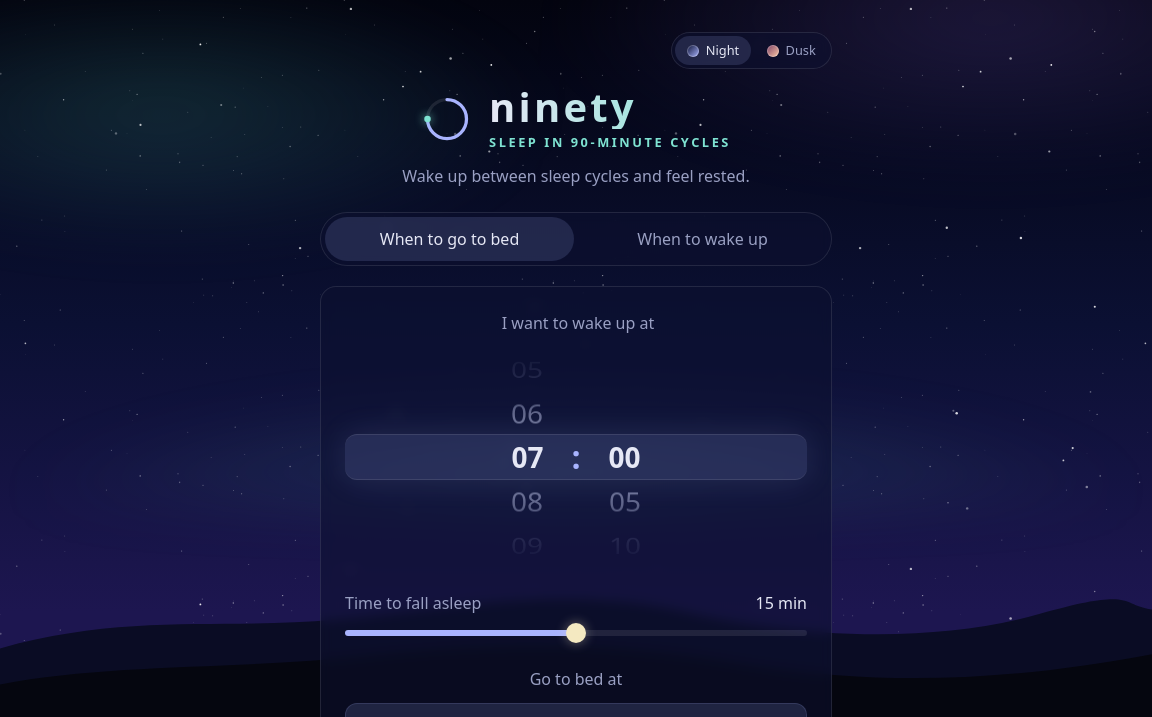
App › shifts bedtimes when the fall-asleep time changes
(page scrolled)
Set the slider labelled "Time to fall asleep 15 min" to "30": {"x": 799, "y": 632} [345,622,807,642]
(page scrolled)
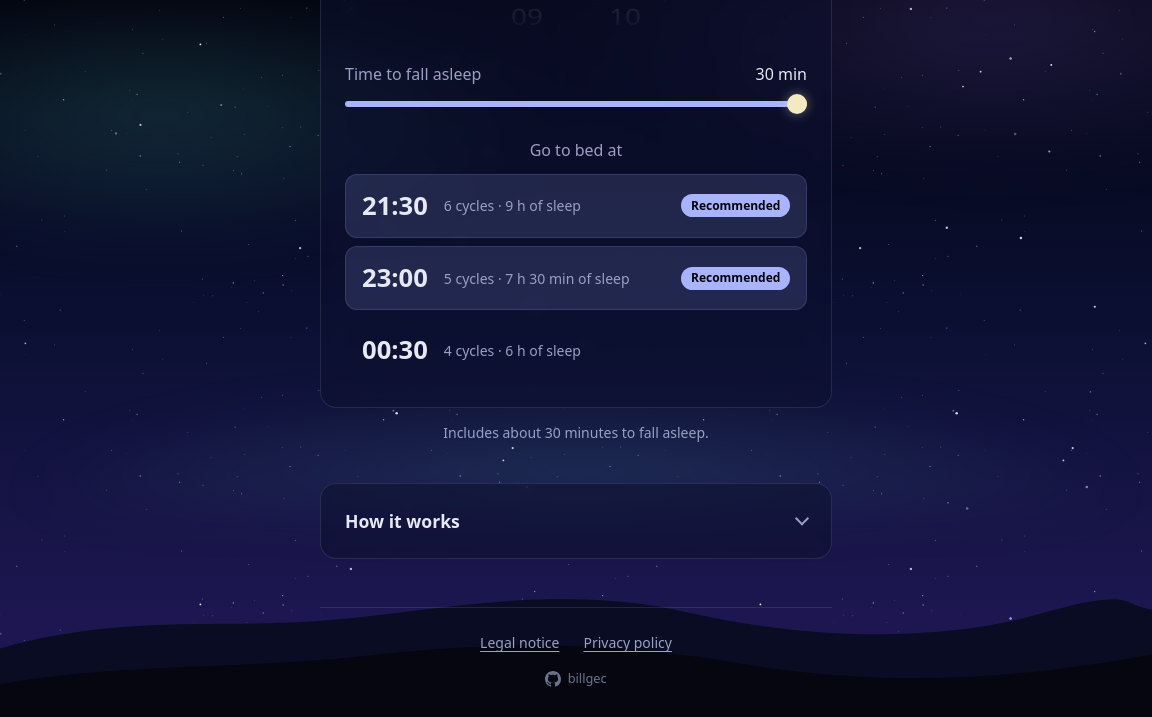
Result: the text "Includes about 30 minutes to fall asleep." is shown at [443,423,709,442]
